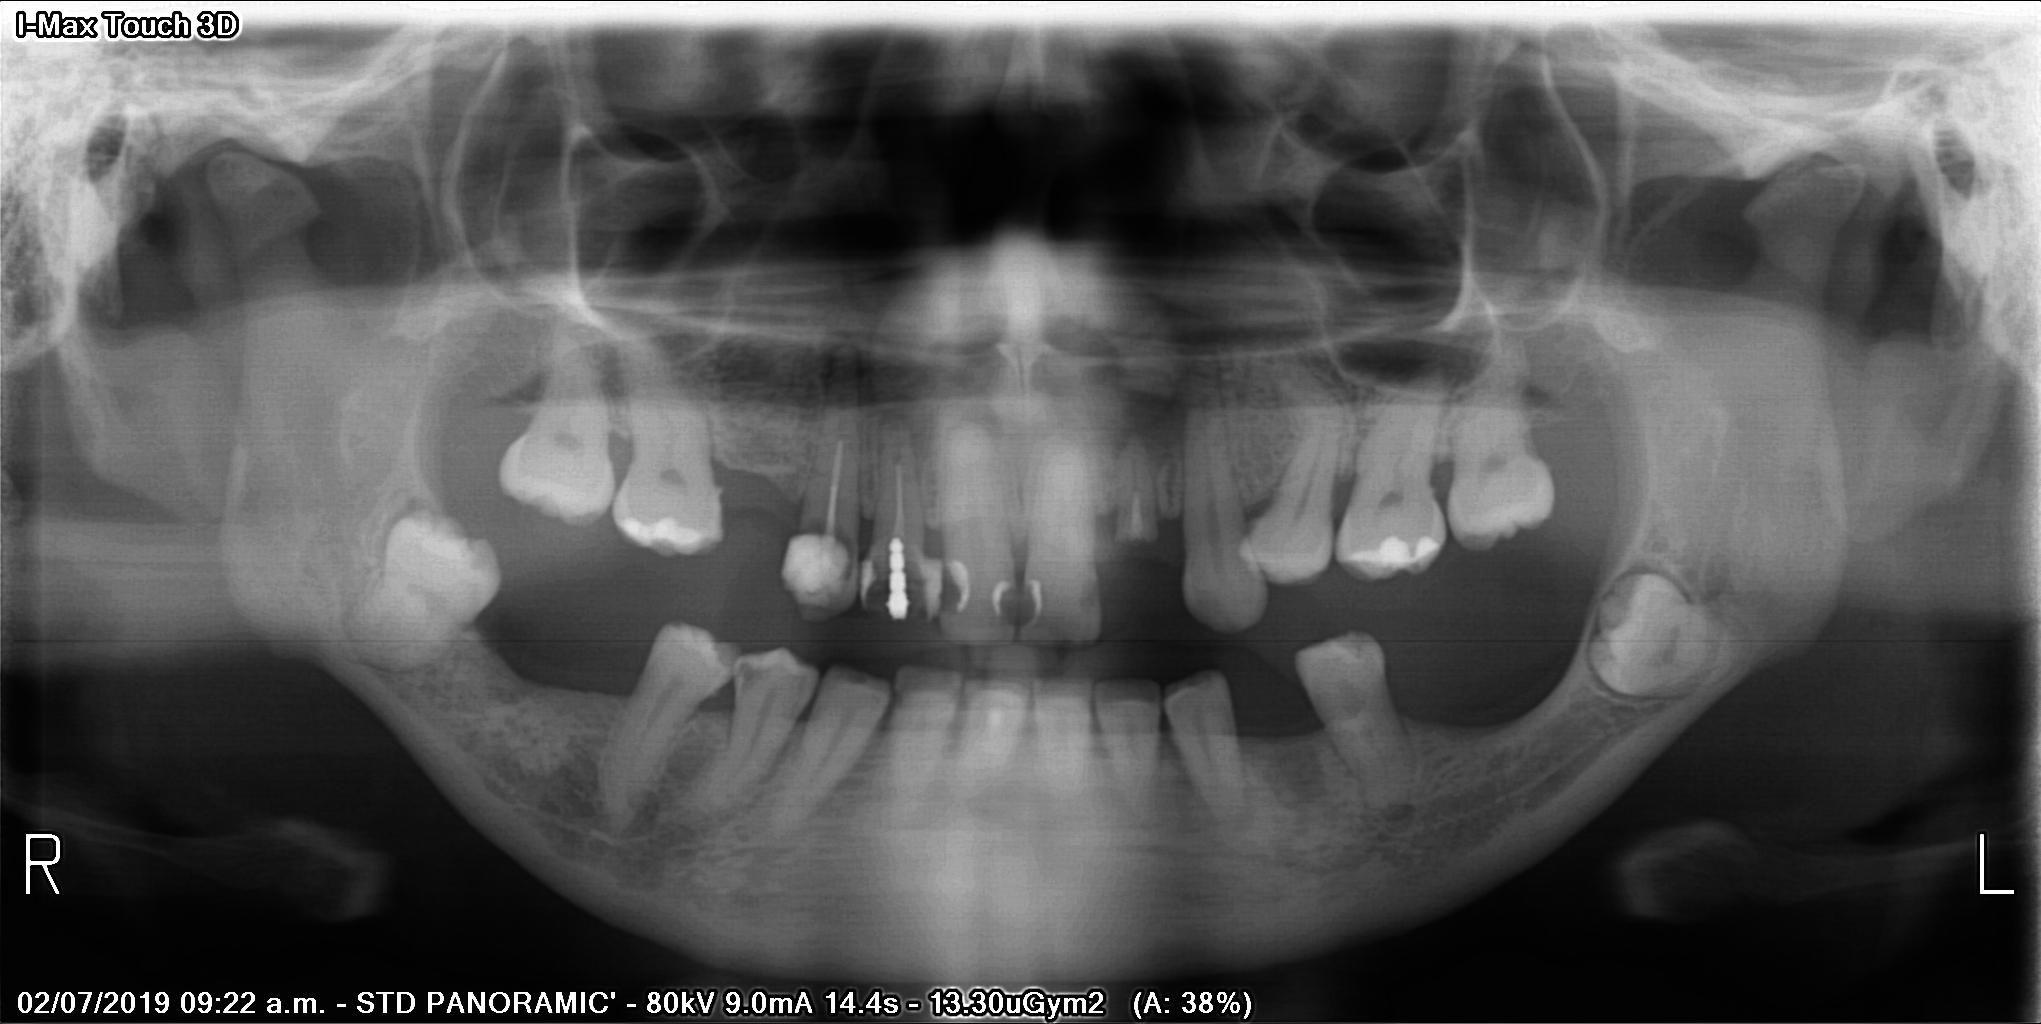Çürük: (783, 539, 851, 613), (1362, 539, 1438, 573), (888, 547, 913, 622)
Çürük Bölgesi: (803, 511, 854, 539), (913, 555, 930, 631), (868, 552, 885, 623), (945, 556, 958, 628), (998, 586, 1019, 630), (735, 664, 760, 692), (1022, 586, 1037, 630)
